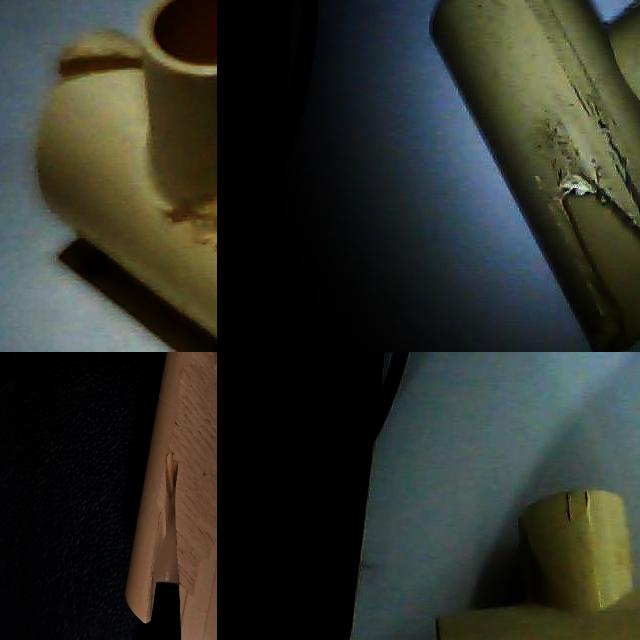Defective: (561, 195, 640, 325), (53, 27, 147, 94), (116, 352, 160, 395), (0, 453, 42, 494)
T Joint: (0, 352, 217, 595), (436, 491, 640, 640)
